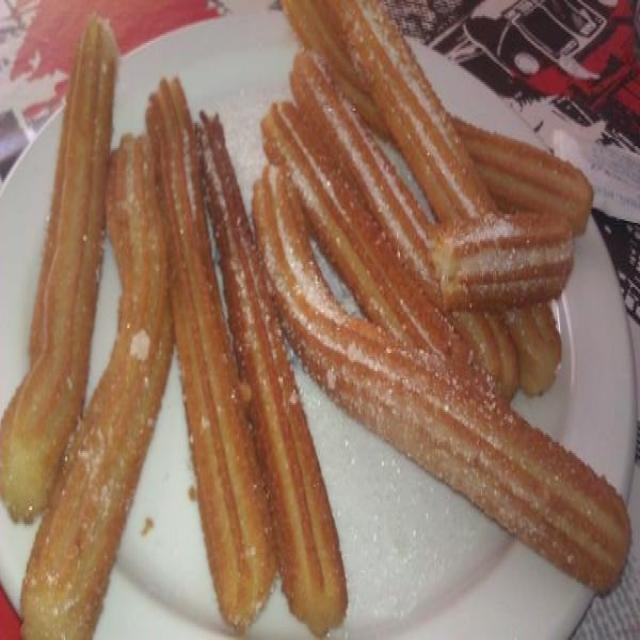炸货点心: (10, 9, 618, 620)
